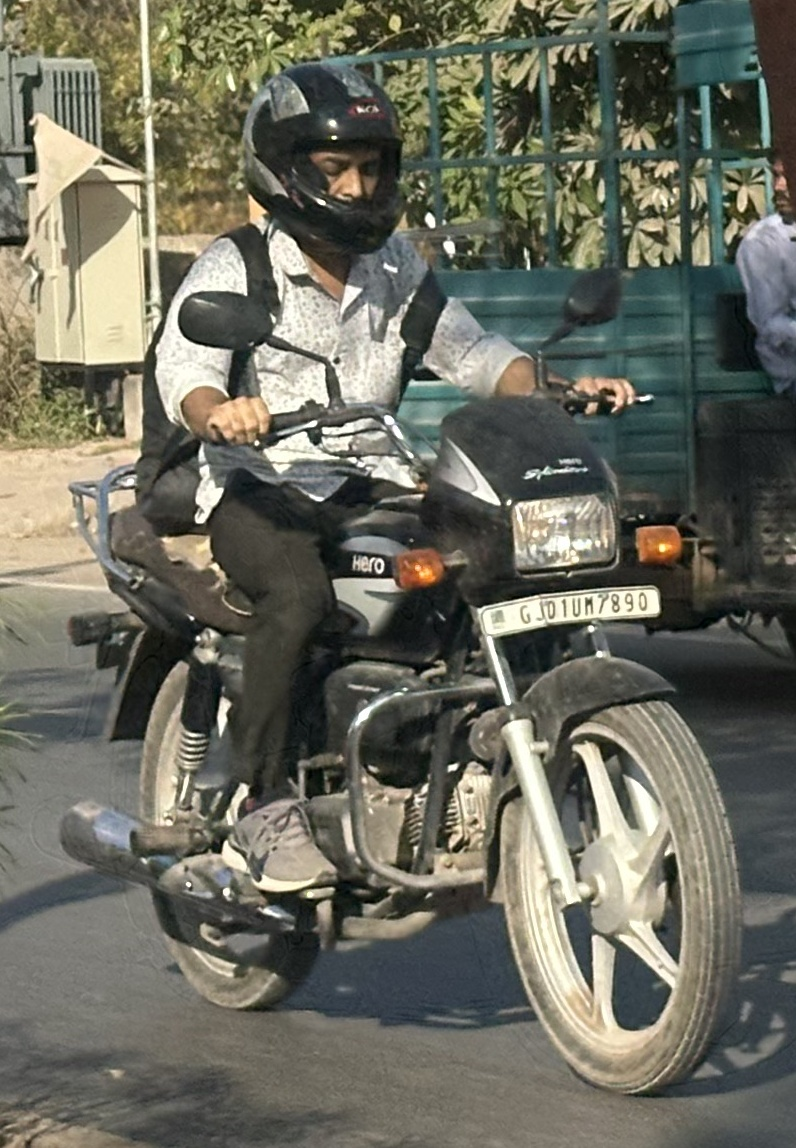BikeWithRider: (38, 40, 765, 1148)
Helmet: (235, 45, 424, 259)
